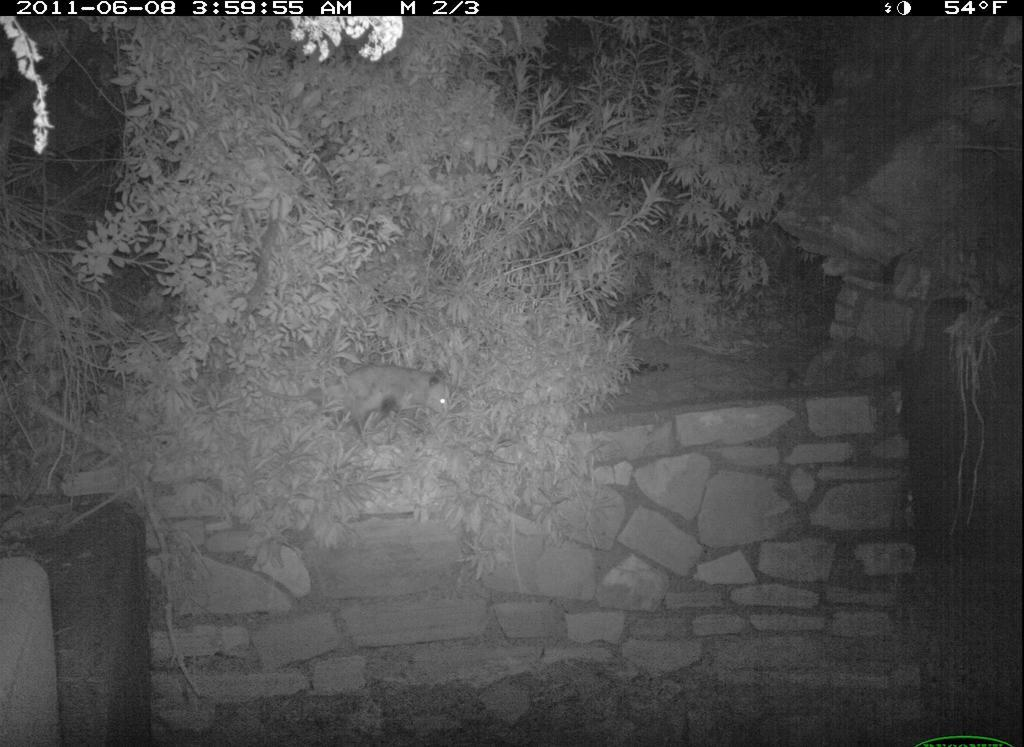opossum: (254, 361, 455, 452)
